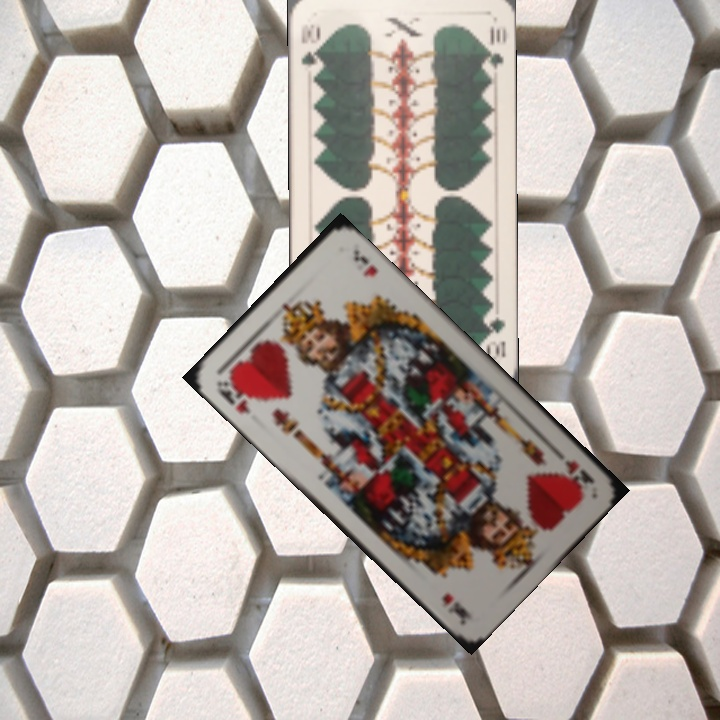G10: (482, 306, 509, 363), (296, 20, 322, 69)
HK: (548, 444, 597, 490), (212, 374, 253, 417)
